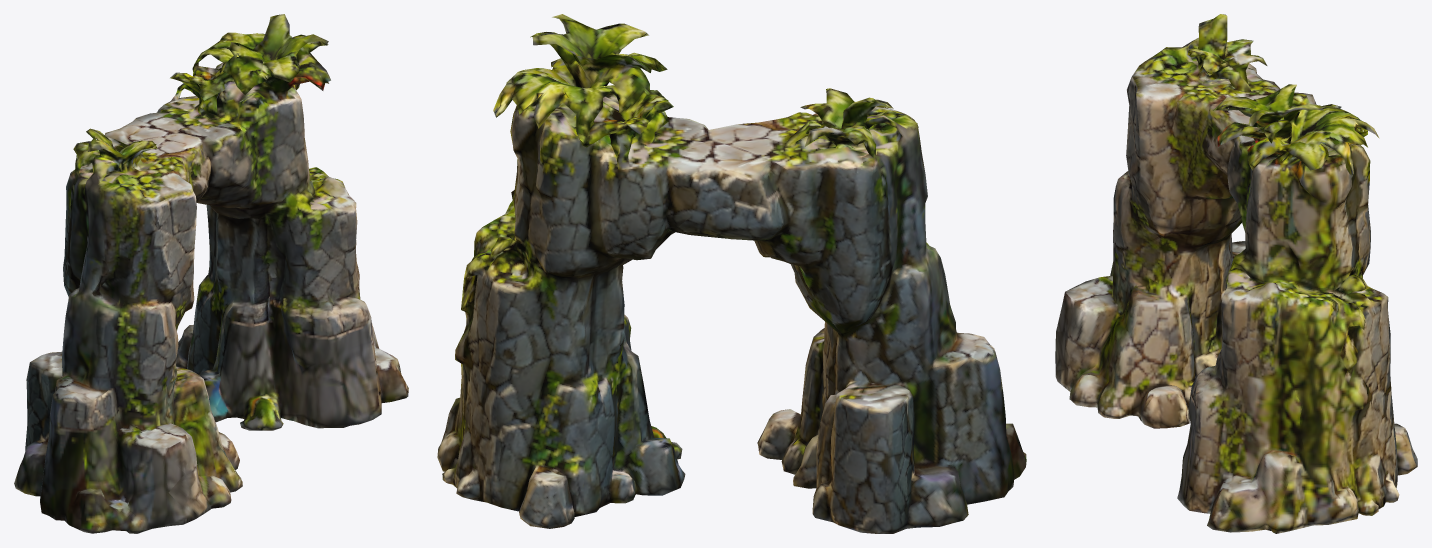
The model's file is SummerDecor_ThirdRoom_StoneArch.fbx.
3 views of the same model, side by side, from view 1: azimuth 30°, elevation 25°; view 2: azimuth 150°, elevation 25°; view 3: azimuth 270°, elevation 25° (orthographic). The views are drawn at different scales.
Visible parts, largest first — view 1: SummerDecor_ThirdRoom_StoneArch_Mesh; view 2: SummerDecor_ThirdRoom_StoneArch_Mesh; view 3: SummerDecor_ThirdRoom_StoneArch_Mesh.
Part boxes in pixels (x1,y1,x2,y2): SummerDecor_ThirdRoom_StoneArch_Mesh: (14,14,408,533); SummerDecor_ThirdRoom_StoneArch_Mesh: (437,14,1026,533); SummerDecor_ThirdRoom_StoneArch_Mesh: (1055,14,1417,533).
Size of the model in its own units: 6 by 5.18 by 4.43.
1 material, 1 textured.
